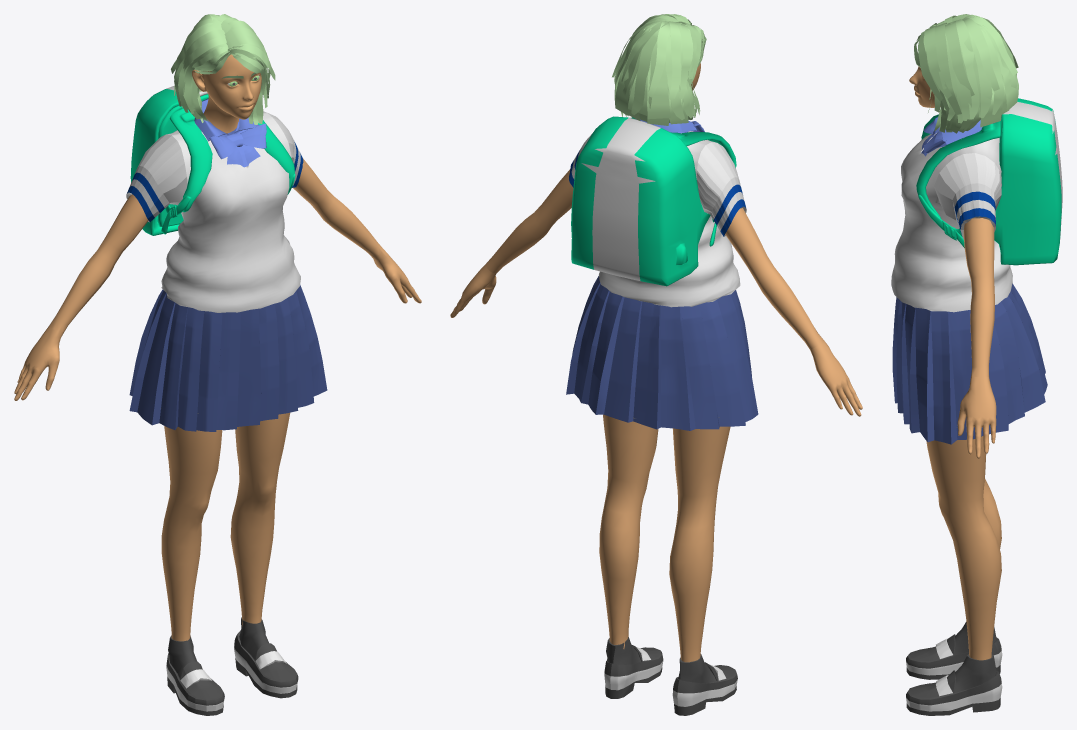
File: BagJapan.fbx
3 renders of one model, left to right at view 1: azimuth 30°, elevation 25°; view 2: azimuth 150°, elevation 25°; view 3: azimuth 270°, elevation 25°, orthographic.
Visible parts, largest first — view 1: Anti_Thief_Bag:Mesh1; view 2: Anti_Thief_Bag:Mesh1; view 3: Anti_Thief_Bag:Mesh1.
Boxes of the visible parts, <box> form: Anti_Thief_Bag:Mesh1: <box>14,14,421,715</box>; Anti_Thief_Bag:Mesh1: <box>450,14,862,715</box>; Anti_Thief_Bag:Mesh1: <box>891,14,1062,715</box>.
Size of the model in its own units: 106 by 167 by 38.55.
